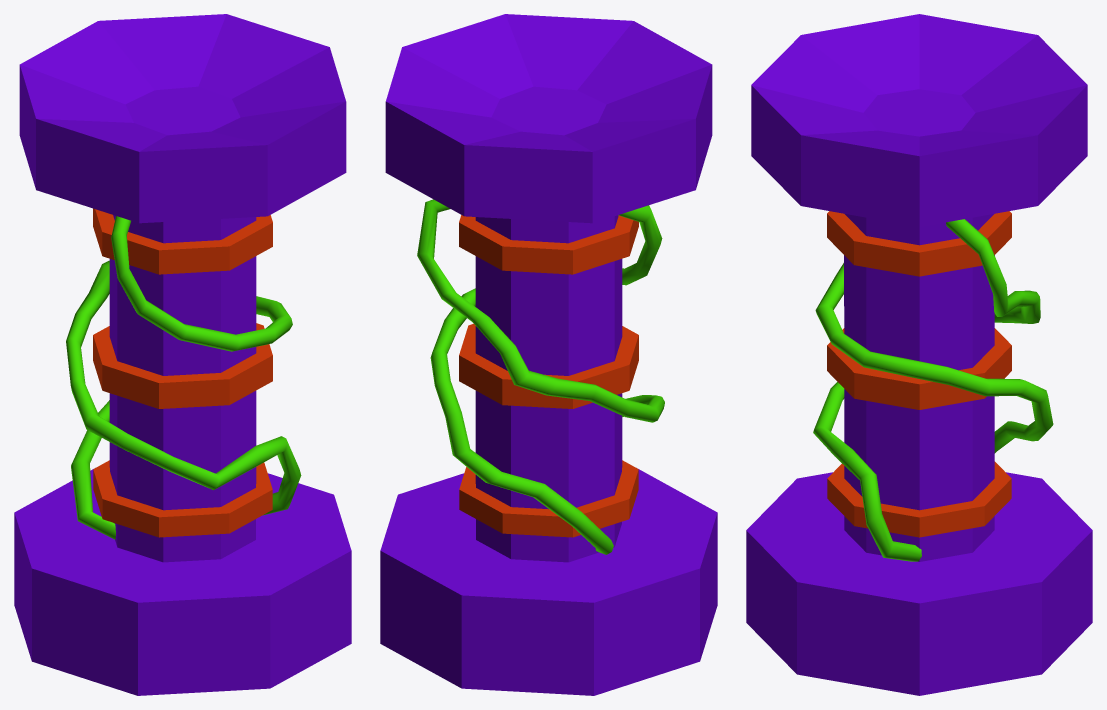
The model's file is piedestal_plant.fbx.
The picture shows the model from 3 angles, left to right: view 1: azimuth 30°, elevation 25°; view 2: azimuth 150°, elevation 25°; view 3: azimuth 270°, elevation 25°; orthographic projection.
Parts seen in each view (by area): view 1: piedestal_plant.001; view 2: piedestal_plant.001; view 3: piedestal_plant.001.
Part boxes in pixels (x1,y1,x2,y2): piedestal_plant.001: (14, 14, 351, 695); piedestal_plant.001: (380, 14, 717, 695); piedestal_plant.001: (746, 14, 1092, 695).
Size of the model in its own units: 156 by 268 by 156.
